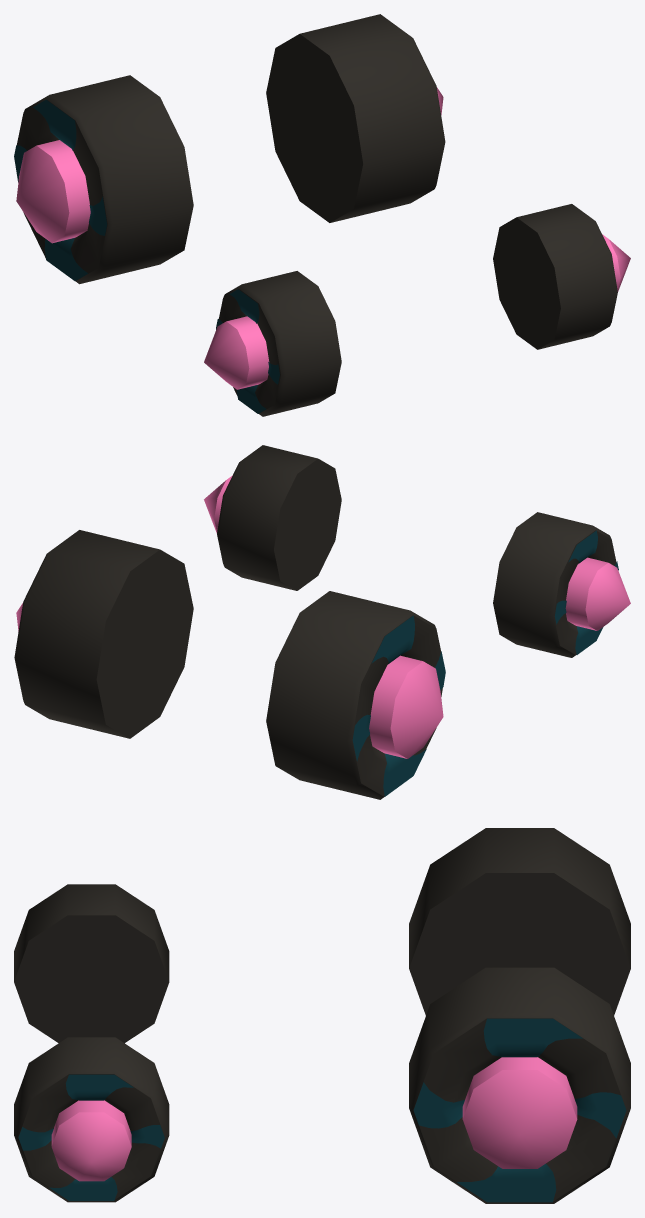
Rendered from LuxWheel01C04.gltf.
3 views of the same model, one above another, from view 1: azimuth 30°, elevation 25°; view 2: azimuth 150°, elevation 25°; view 3: azimuth 270°, elevation 25° (orthographic). The views are drawn at different scales.
Visible parts, largest first — view 1: LuxWheel01C04; view 2: LuxWheel01C04; view 3: LuxWheel01C04.
Part boxes in pixels (box(x1,y1,x2,y2)): LuxWheel01C04: box(14, 14, 630, 416); LuxWheel01C04: box(14, 445, 630, 799); LuxWheel01C04: box(14, 828, 630, 1203).
Size of the model in its own units: 0.2487 by 0.0932 by 0.2723.
